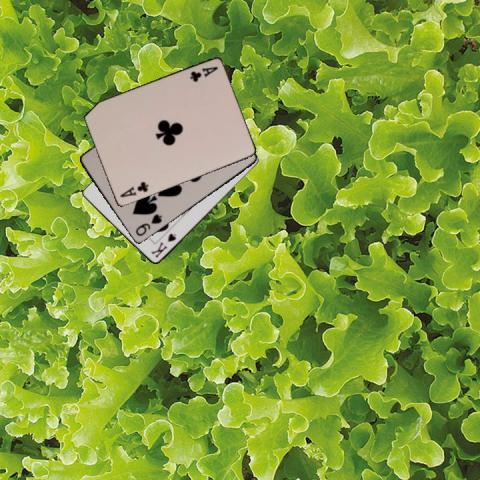9s: (133, 211, 163, 238)
Ac: (117, 178, 150, 198), (187, 64, 219, 83)
Ks: (148, 231, 177, 259)
